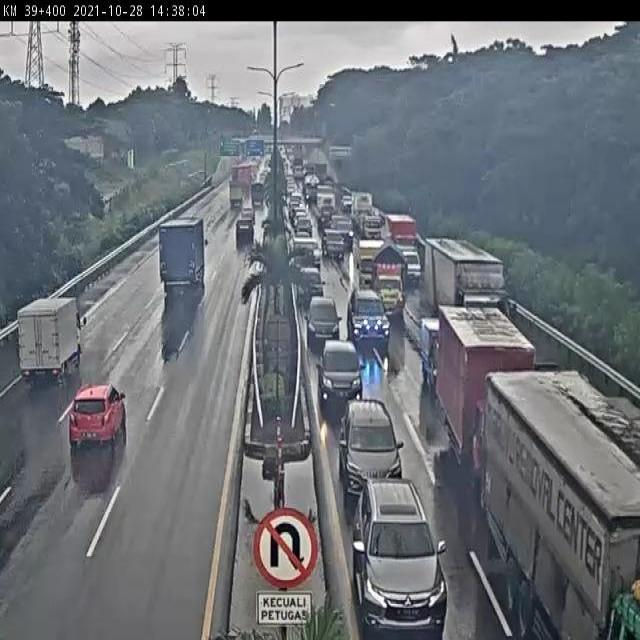big truck: (468, 373, 640, 640), (440, 301, 554, 483), (419, 233, 534, 363)
car: (350, 478, 445, 638), (339, 394, 412, 494), (315, 334, 373, 422), (62, 383, 131, 452), (305, 292, 348, 347), (349, 291, 393, 344), (297, 263, 323, 305), (233, 220, 261, 253), (322, 228, 344, 267), (237, 204, 260, 224)
small truck: (13, 290, 88, 386), (157, 210, 211, 302), (417, 308, 471, 389), (370, 246, 423, 314), (228, 178, 248, 205), (249, 184, 270, 207)
